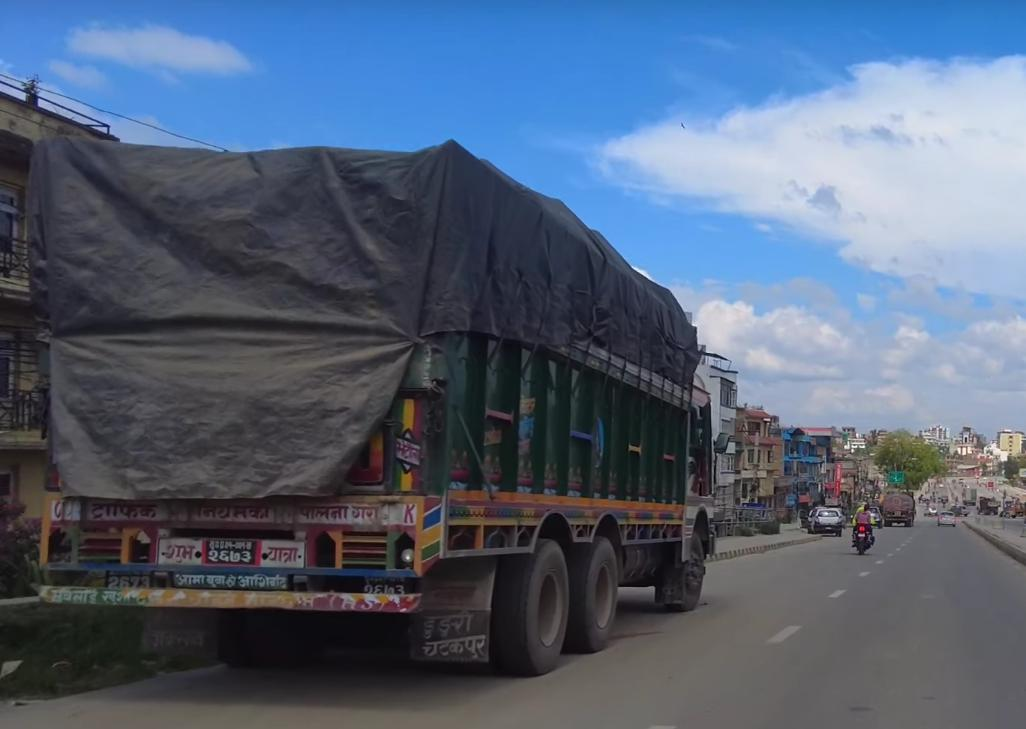taxi: (810, 503, 846, 538)
truck: (25, 134, 725, 676)
